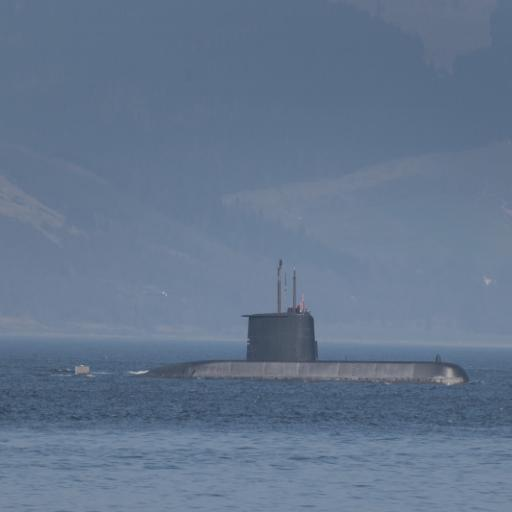submarine: (58, 266, 477, 388)
